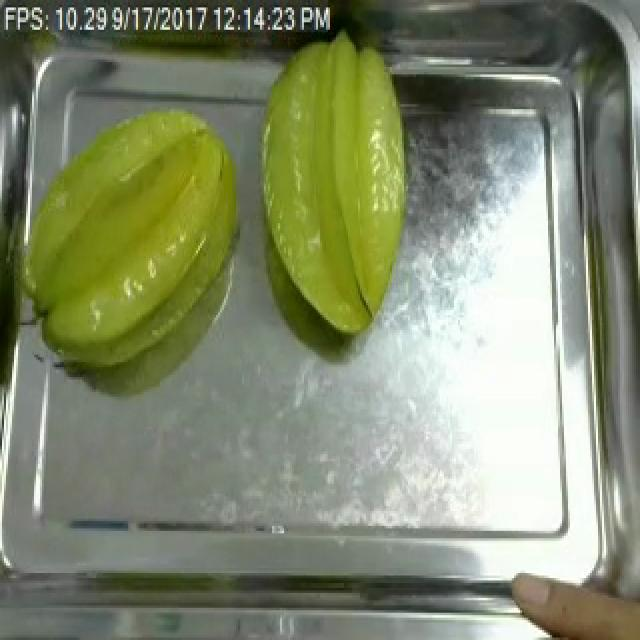fruit: (0, 92, 252, 394), (242, 22, 420, 350), (502, 568, 640, 640)
